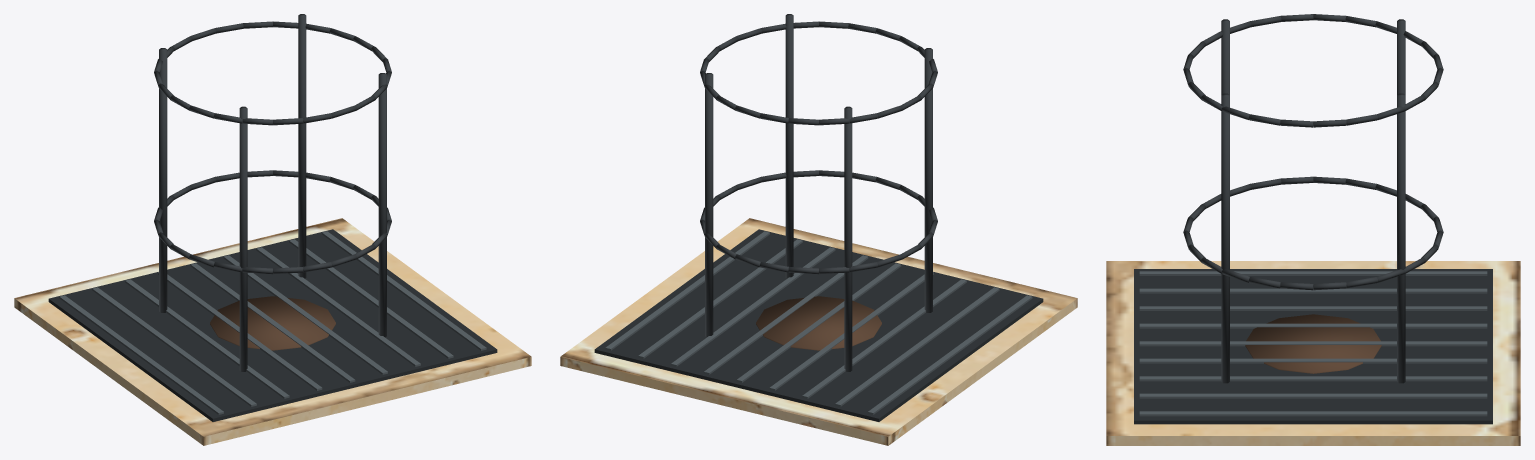
3 renders of one model, left to right at view 1: azimuth 30°, elevation 25°; view 2: azimuth 150°, elevation 25°; view 3: azimuth 270°, elevation 25°, orthographic. The views are drawn at different scales.
Parts seen in each view (by area): view 1: house_paint, seaside_stone; view 2: house_paint, seaside_stone; view 3: house_paint, seaside_stone.
Boxes of the visible parts, left/top/right/bottom form: house_paint: left=48, top=14, right=497, bottom=421; seaside_stone: left=14, top=218, right=531, bottom=445; house_paint: left=594, top=14, right=1043, bottom=421; seaside_stone: left=560, top=218, right=1077, bottom=445; house_paint: left=1134, top=14, right=1492, bottom=424; seaside_stone: left=1106, top=261, right=1520, bottom=445.
Bounding box in the file's own units: 1.5 × 1.2 × 1.5.
2 materials, 2 textured.
